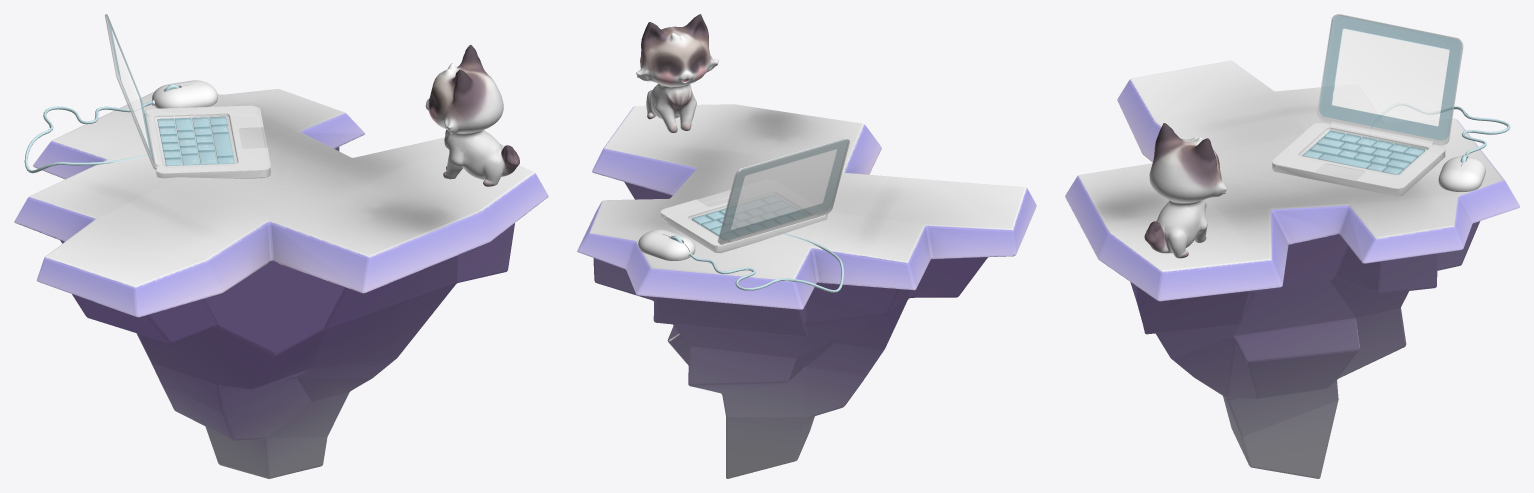
Rendered from HomeIsland.glb.
3 renders of one model, left to right at view 1: azimuth 30°, elevation 25°; view 2: azimuth 150°, elevation 25°; view 3: azimuth 270°, elevation 25°, orthographic. The views are drawn at different scales.
Parts seen in each view (by area): view 1: Island_big, MacBook_1_MacBook.1_0, Body, Muis_1_Mat_0, Muis_1_Mat_2, MacBook_1_MacBook.1_0.001; view 2: Island_big, MacBook_1_MacBook.1_0, Body, MacBook_1_MacBook.1_0.001, Muis_1_Mat_0, Muis_1_Mat_2; view 3: Island_big, MacBook_1_MacBook.1_0, MacBook_1_MacBook.1_0.001, Body, Muis_1_Mat_0, Muis_1_Mat_2.
Part boxes in pixels (x1,y1,x2,y2): Island_big: (14,89,548,478); MacBook_1_MacBook.1_0: (105,14,270,178); Body: (425,45,519,186); Muis_1_Mat_0: (152,80,217,108); Muis_1_Mat_2: (24,84,179,173); MacBook_1_MacBook.1_0.001: (112,31,148,147); Island_big: (577,104,1036,478); MacBook_1_MacBook.1_0: (661,137,849,253); Body: (636,14,719,132); MacBook_1_MacBook.1_0.001: (731,150,836,228); Muis_1_Mat_0: (638,229,695,260); Muis_1_Mat_2: (670,231,843,292); Island_big: (1065,60,1519,478); MacBook_1_MacBook.1_0: (1272,14,1463,196); MacBook_1_MacBook.1_0.001: (1332,29,1449,125); Body: (1144,123,1226,258); Muis_1_Mat_0: (1438,156,1485,191); Muis_1_Mat_2: (1369,103,1510,163).
Bounding box in the file's own units: 6.35 × 5.5 × 5.57.
5 materials, 3 textured.
